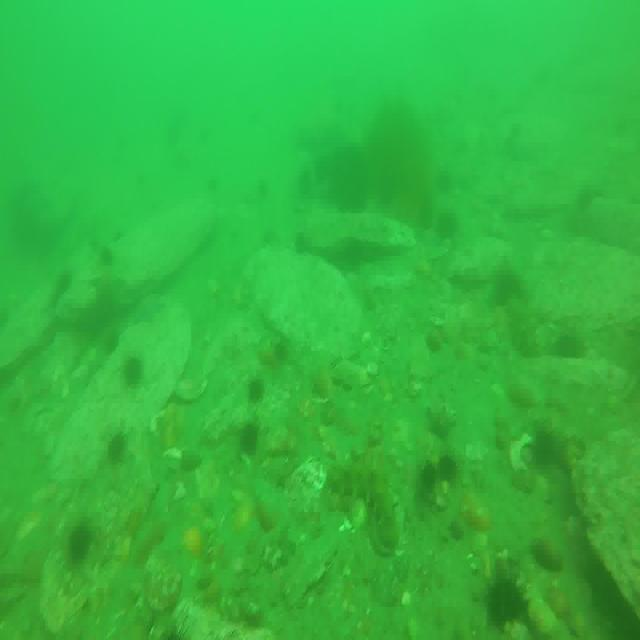echinus: (487, 577, 527, 631), (559, 326, 584, 365), (70, 522, 93, 561), (242, 419, 260, 463), (435, 206, 456, 241), (437, 451, 457, 486), (127, 356, 147, 388), (110, 428, 128, 462), (103, 326, 119, 358), (100, 240, 114, 272), (252, 375, 265, 406)
holothurian: (331, 454, 397, 550)
starfish: (132, 292, 166, 324)
